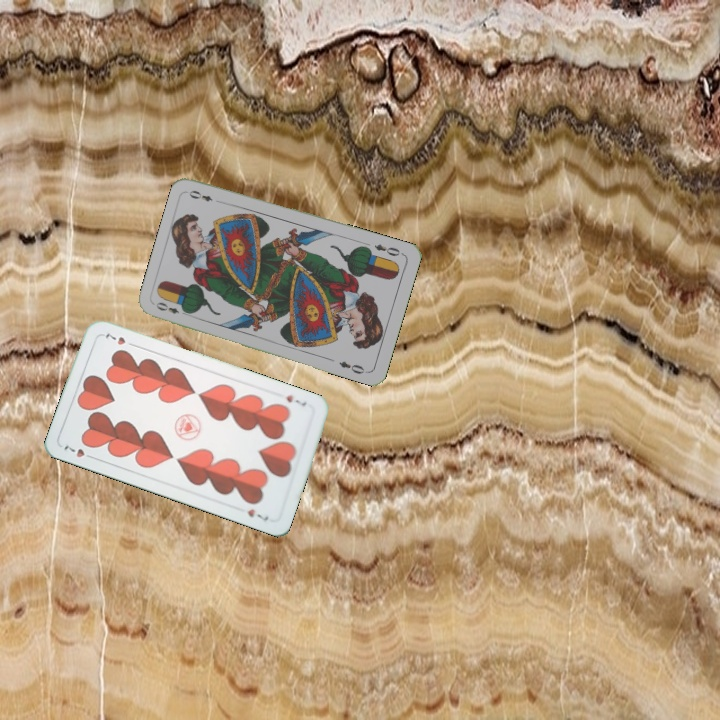EO: (152, 298, 191, 318), (370, 240, 406, 259)
H7: (60, 439, 98, 462), (282, 391, 309, 410)
